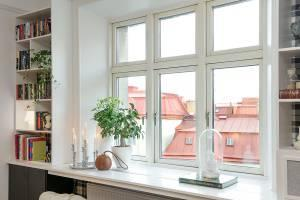window: (104, 0, 267, 170)
